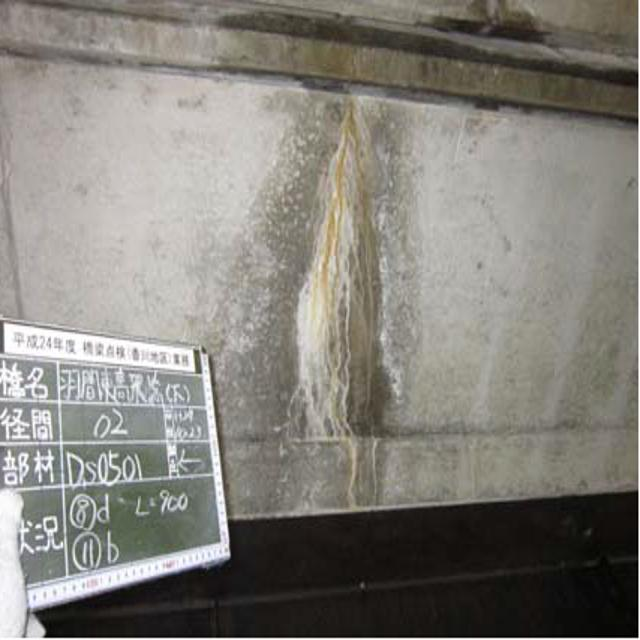freelime: (284, 127, 363, 457)
